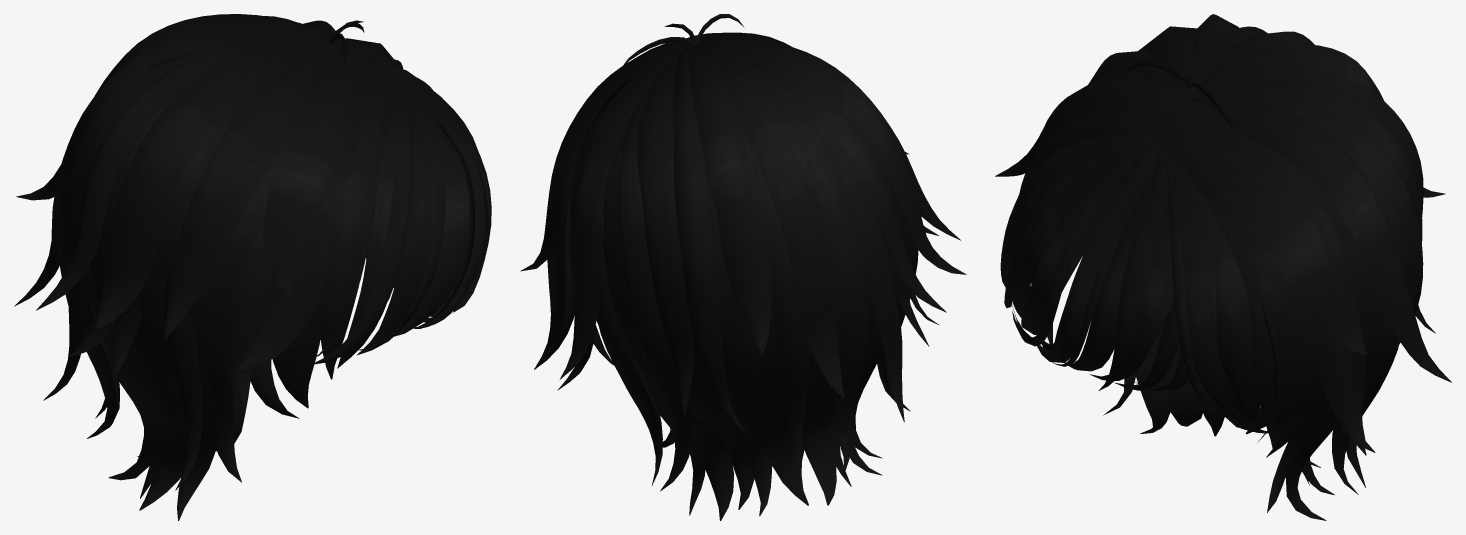
The model's file is Ondulado_2.glb.
3 renders of one model, left to right at view 1: azimuth 30°, elevation 25°; view 2: azimuth 150°, elevation 25°; view 3: azimuth 270°, elevation 25°, orthographic. The views are drawn at different scales.
Parts seen in each view (by area): view 1: PixieCut; view 2: PixieCut; view 3: PixieCut.
Part boxes in pixels (x1,y1,x2,y2): PixieCut: (14,14,491,520); PixieCut: (520,14,966,520); PixieCut: (995,14,1451,520).
Bounding box in the file's own units: 0.0361 × 0.0389 × 0.0332.
Materials: 1 (1 with a texture image).
